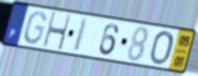6: (98, 23, 120, 57)
8: (126, 26, 151, 64)
G: (22, 11, 47, 46)
H: (41, 12, 73, 53)
I: (72, 16, 91, 54)
O: (149, 30, 175, 66)
